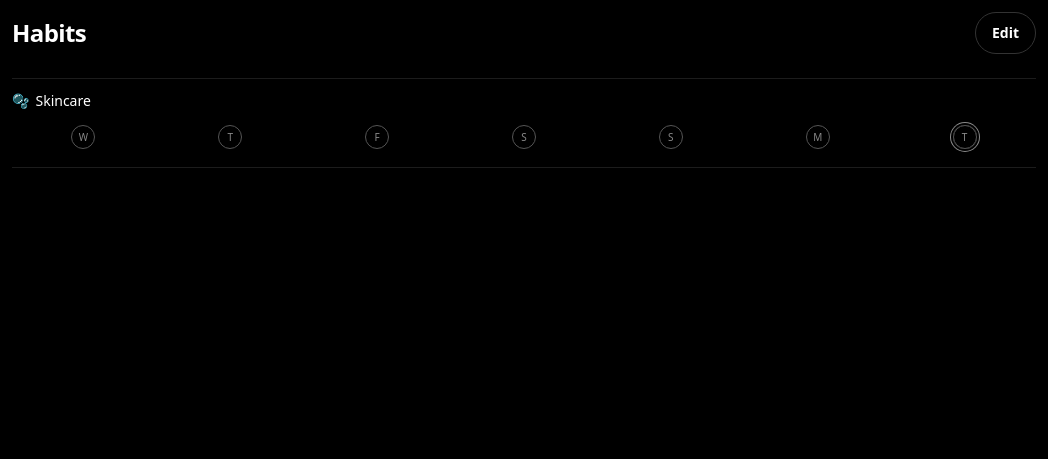
it: HabitsPage › doesn't reorder while a new habit is still saving
The image size is (1048, 459).
Click the button "Edit". click: x=1005, y=33
box: [975,12,1036,54]
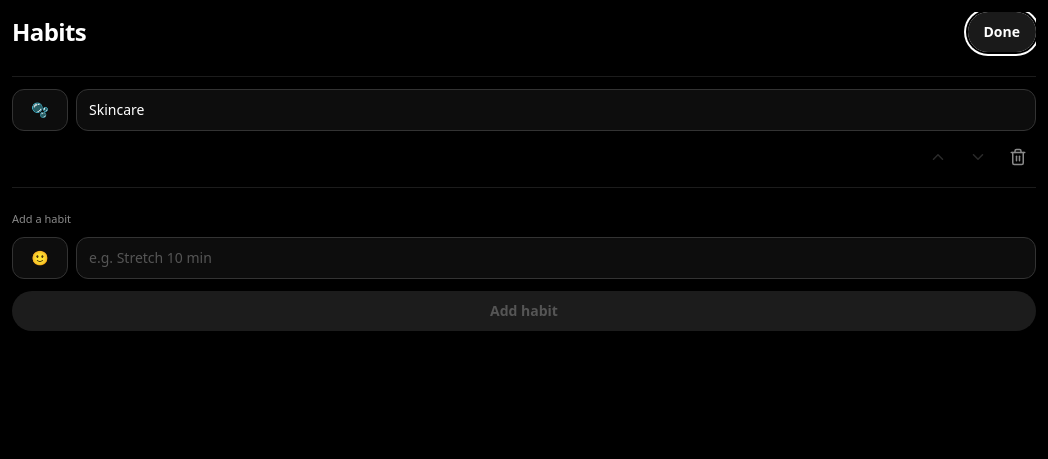
Type "Read" into the field named "Habit name". click: x=556, y=258
box: [76,237,1036,279]
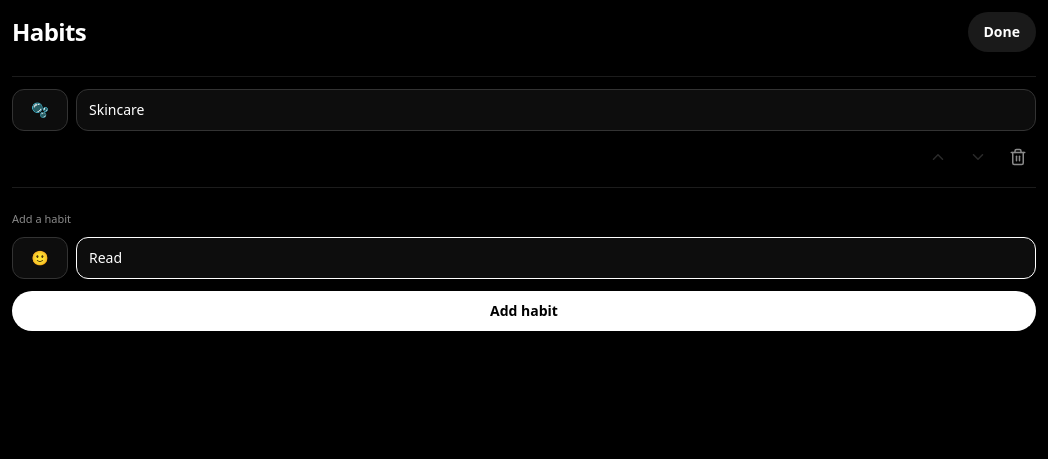
Click the button "Add habit". click: x=524, y=311
box: [12,291,1036,331]
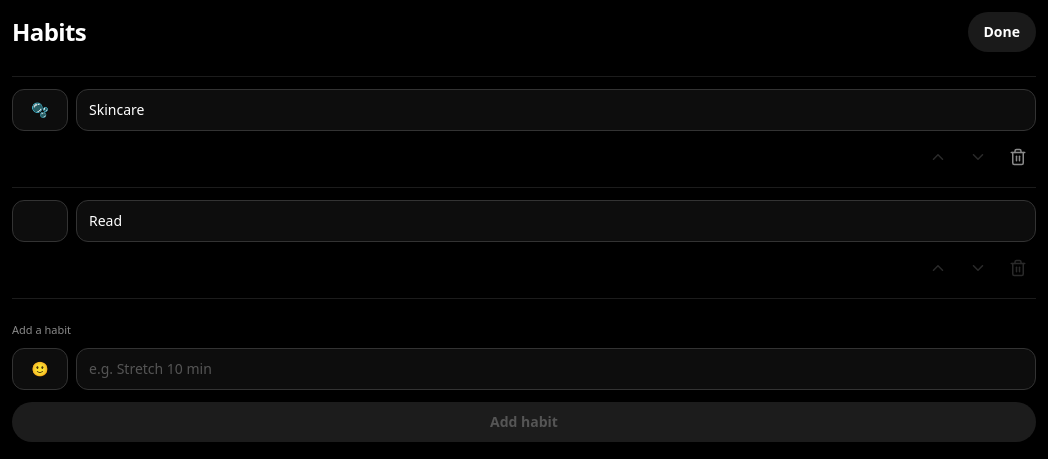
Expected: the button named "Move Skincare down" is disabled, [960,139,996,175]
Expected: the button named "Delete Read" is disabled, [1000,250,1036,286]
